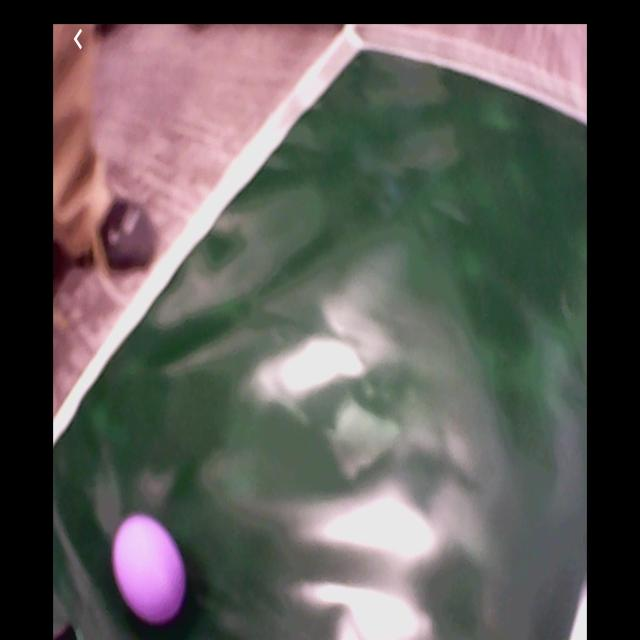ball: (113, 511, 189, 623)
